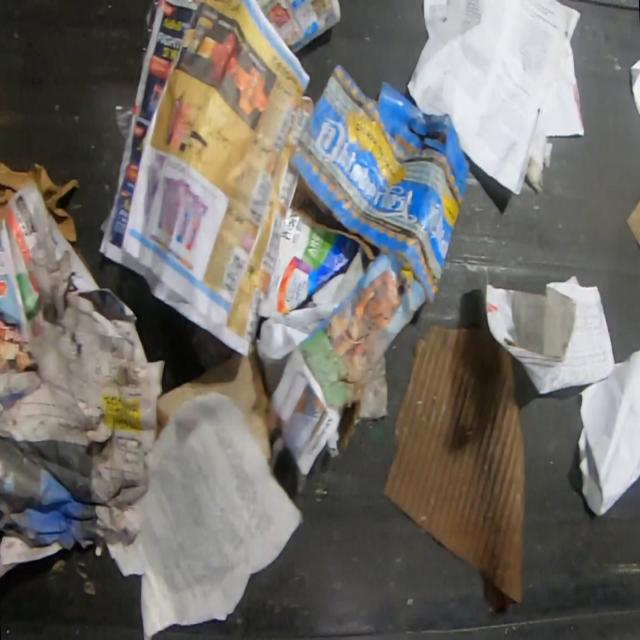cardboard: (285, 64, 468, 304), (382, 326, 525, 610), (158, 349, 278, 448), (258, 209, 358, 317)
soft_plastic: (116, 102, 134, 141)
